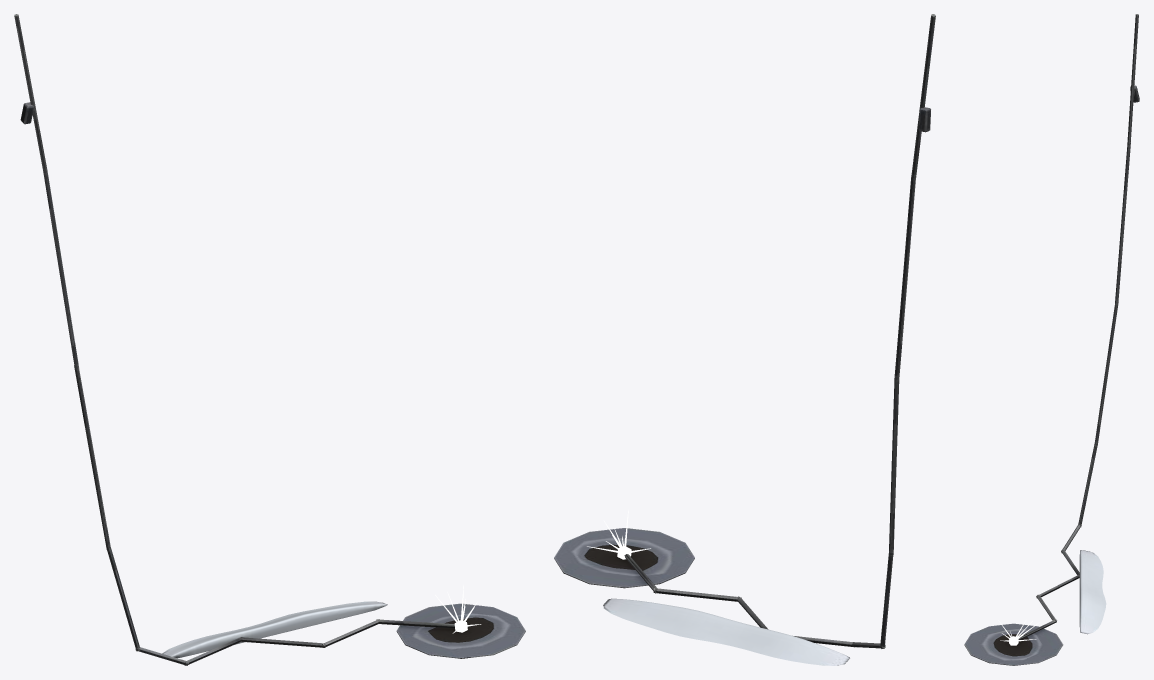
File: cable_snapped.glb
The picture shows the model from 3 angles, left to right: view 1: azimuth 30°, elevation 25°; view 2: azimuth 150°, elevation 25°; view 3: azimuth 270°, elevation 25°; orthographic projection. The views are drawn at different scales.
Parts seen in each view (by area): view 1: cable_snapped; view 2: cable_snapped; view 3: cable_snapped.
Part boxes in pixels (left/top/right/bottom): cable_snapped: left=14, top=14, right=525, bottom=665; cable_snapped: left=554, top=14, right=935, bottom=665; cable_snapped: left=964, top=14, right=1139, bottom=665.
Size of the model in its own units: 4.52 by 6.64 by 2.13.
2 materials, 1 textured.
